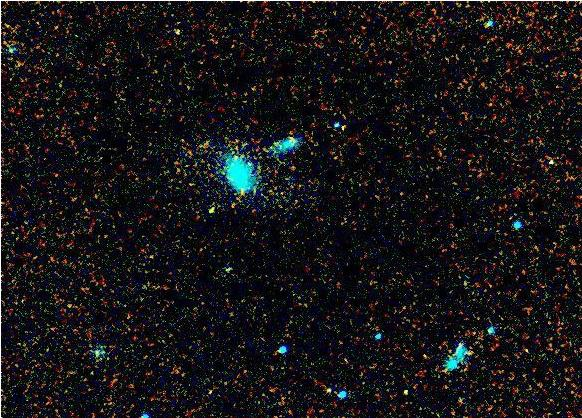star: (195, 198, 225, 228)
